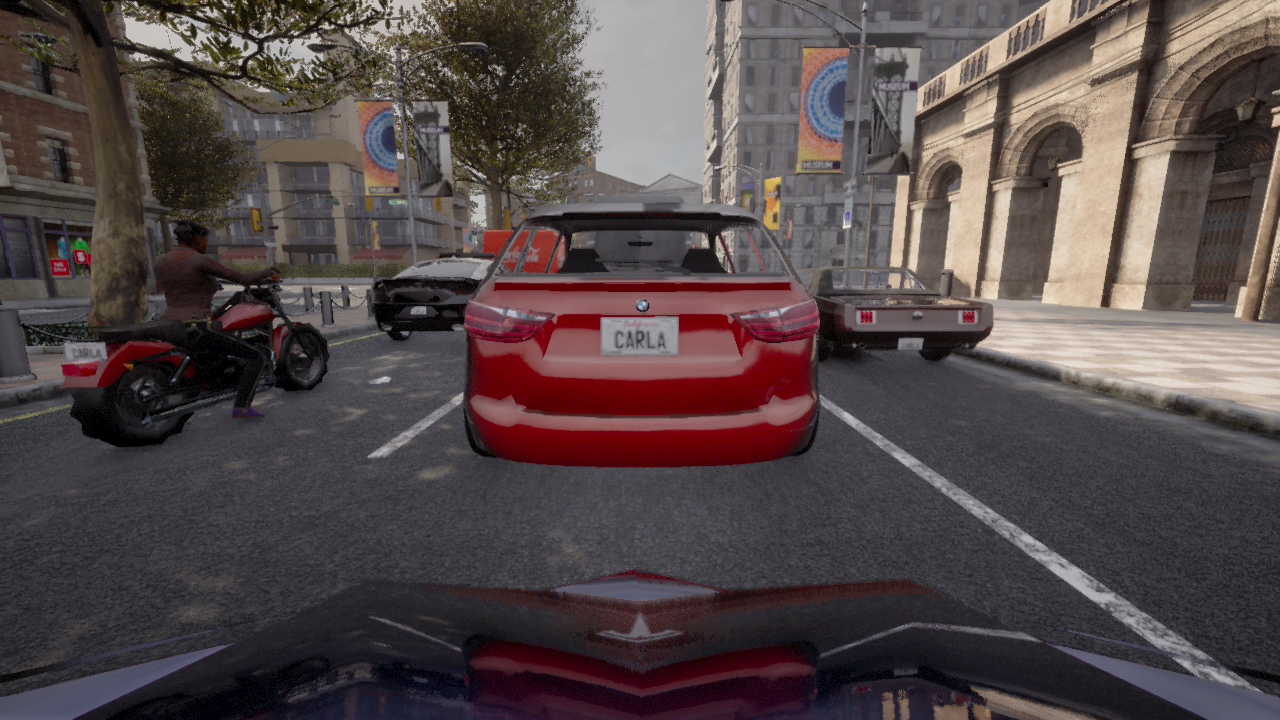cyclist: (0, 569, 1279, 719), (463, 203, 819, 467), (61, 266, 330, 447), (796, 266, 992, 360), (374, 252, 495, 340), (483, 230, 513, 256), (596, 194, 684, 202)
